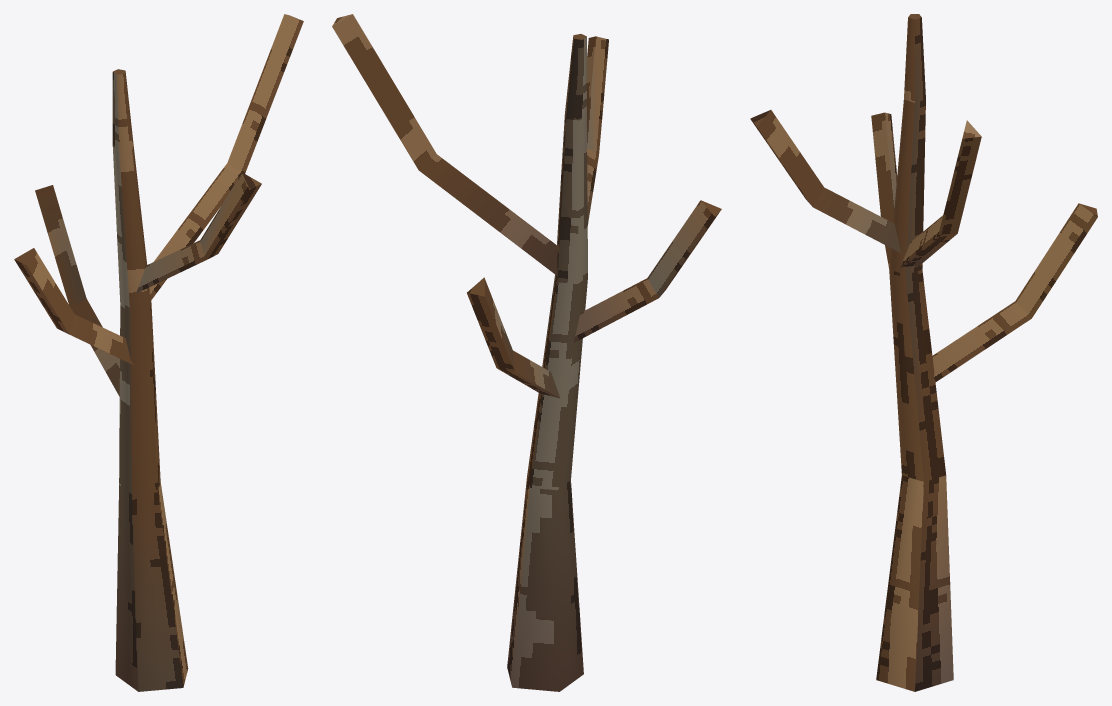
The model's file is wland.dead_tree.glb.
The picture shows the model from 3 angles, left to right: view 1: azimuth 30°, elevation 25°; view 2: azimuth 150°, elevation 25°; view 3: azimuth 270°, elevation 25°; orthographic projection. The views are drawn at different scales.
Parts seen in each view (by area): view 1: kit_trunk, kit_branches; view 2: kit_trunk, kit_branches; view 3: kit_trunk, kit_branches.
Boxes of the visible parts, left/top/right/bottom form: kit_trunk: left=112, top=69, right=188, bottom=691; kit_branches: left=14, top=14, right=303, bottom=396; kit_trunk: left=507, top=34, right=587, bottom=691; kit_branches: left=332, top=14, right=721, bottom=398; kit_trunk: left=876, top=14, right=953, bottom=691; kit_branches: left=750, top=110, right=1097, bottom=384.
Size of the model in its own units: 2.14 by 3.88 by 1.91.
Materials: 1 (1 with a texture image).
